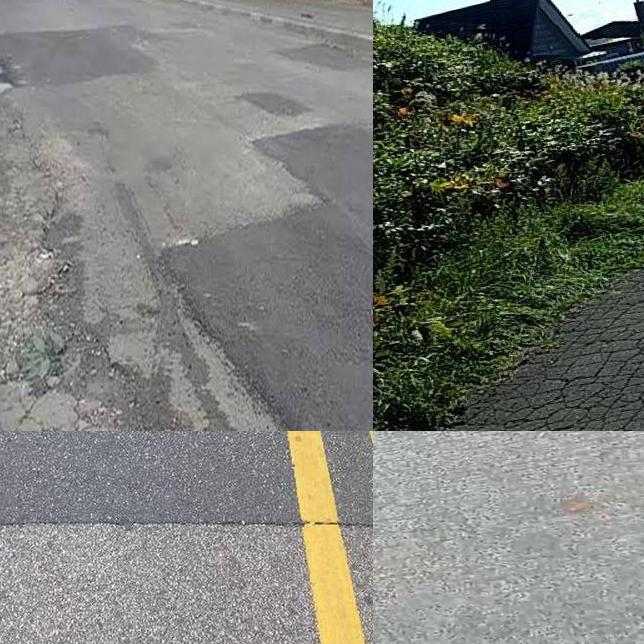Sambungan: (154, 122, 373, 431), (0, 431, 373, 533), (0, 23, 170, 83)
